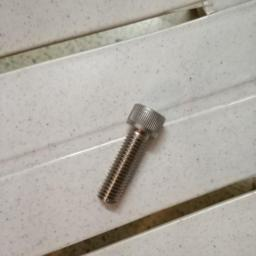screwtype1silver: (86, 100, 166, 207)
